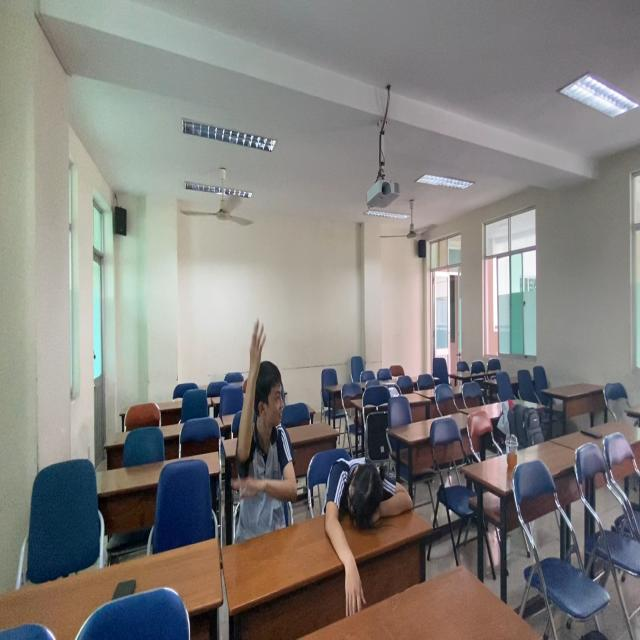raise_hand: (236, 316, 300, 527)
sleep: (320, 455, 419, 547)
